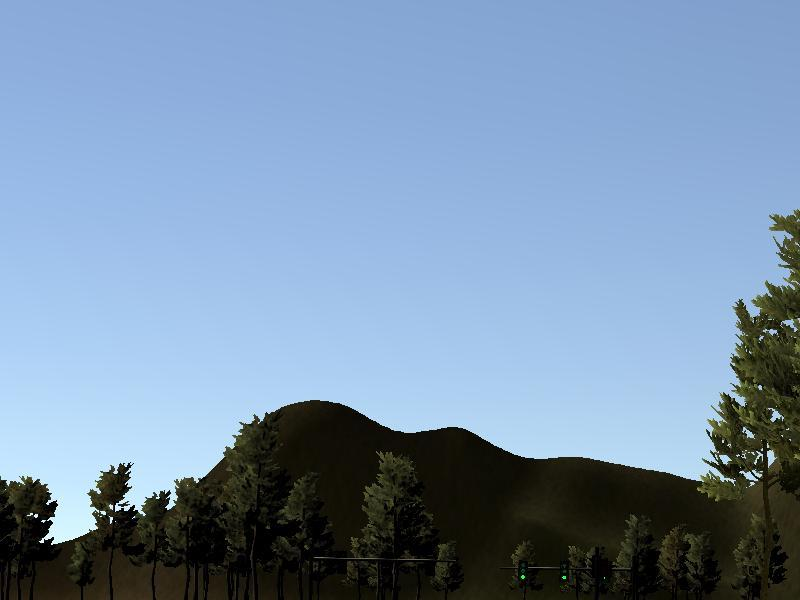Green: (517, 557, 528, 583), (559, 558, 569, 582)
